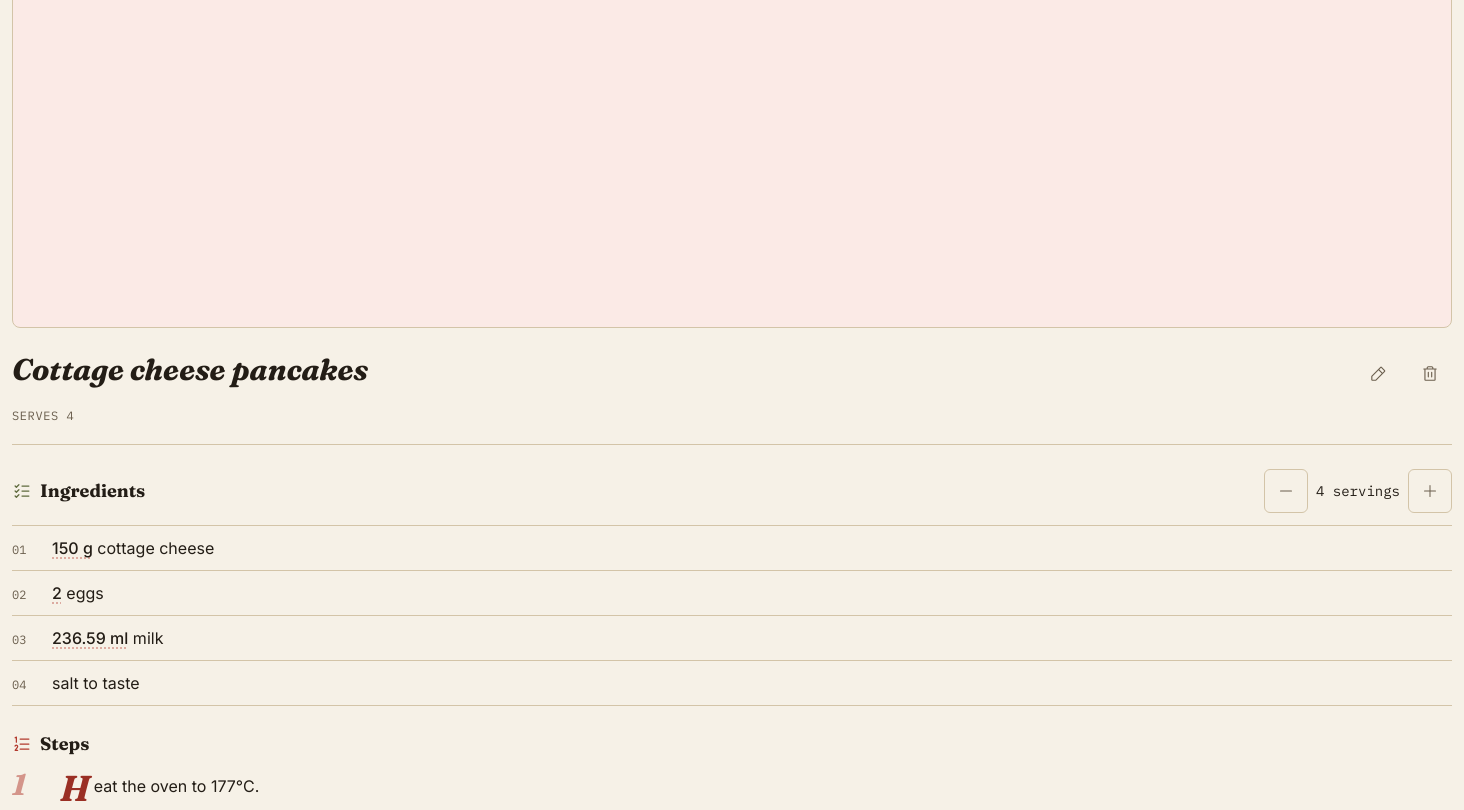
Test: RecipeDetailPage — scaling › rescales every amount with the servings stepper
(page scrolled)
Click the button named "More servings". click: {"x": 1430, "y": 491}
box: [1408,469,1452,513]
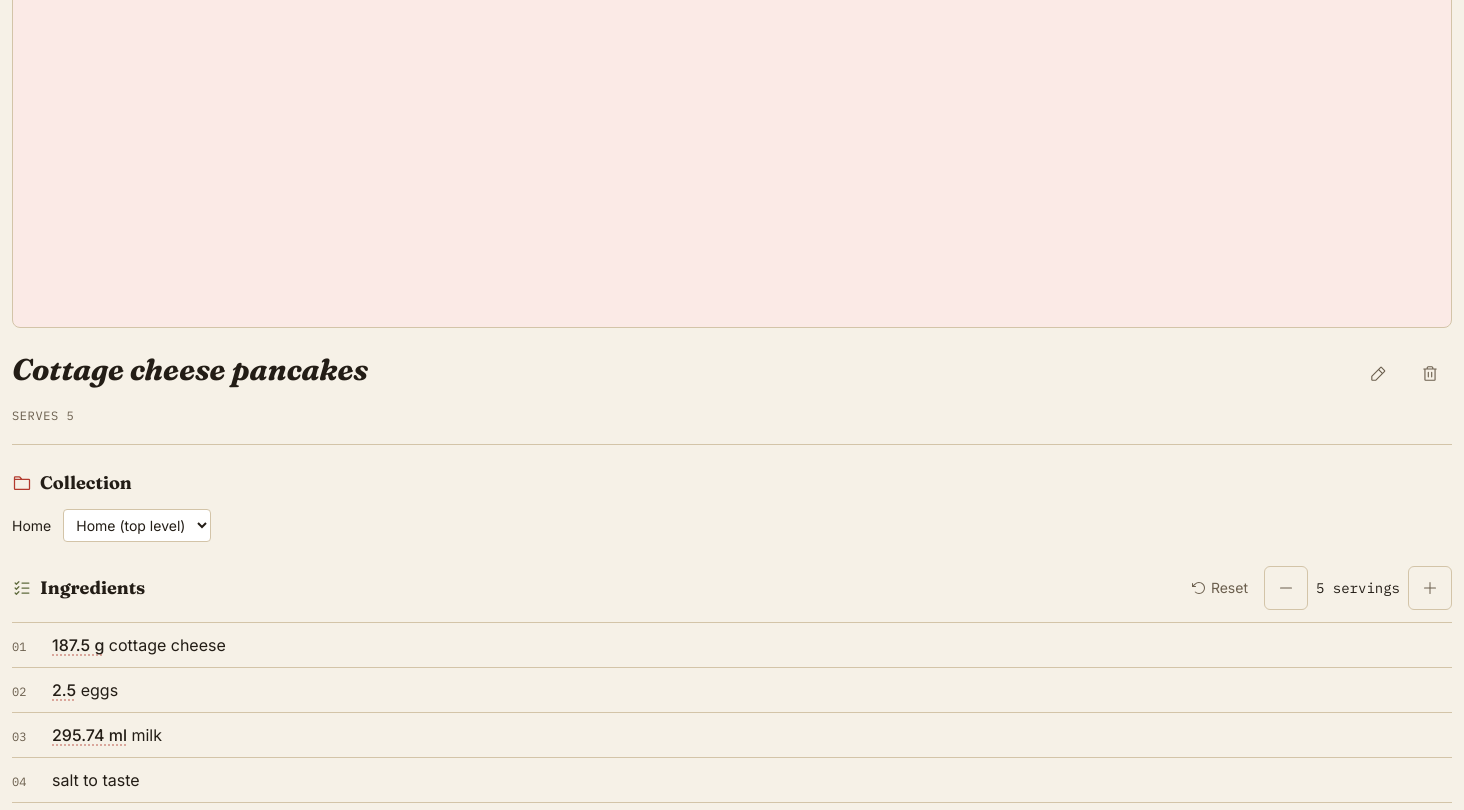
Click the button named "More servings". click: {"x": 1430, "y": 588}
box: [1408,566,1452,610]
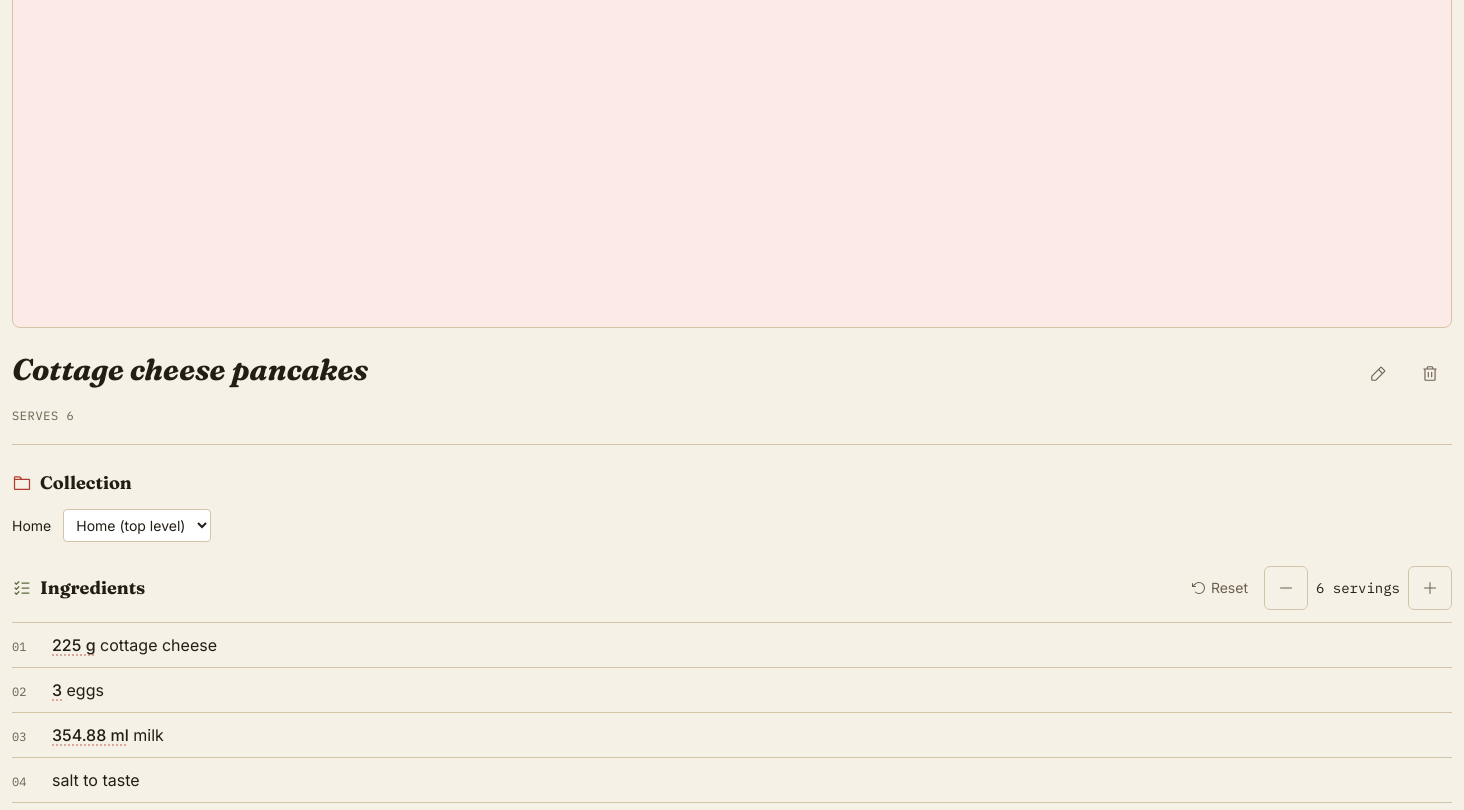
Expected: the text "6 servings" is shown, [1316,578,1400,598]
Expected: the text "Serves 6" is shown, [12,408,74,423]
Click the button "Reset". click: {"x": 1219, "y": 588}
box: [1183,566,1256,610]
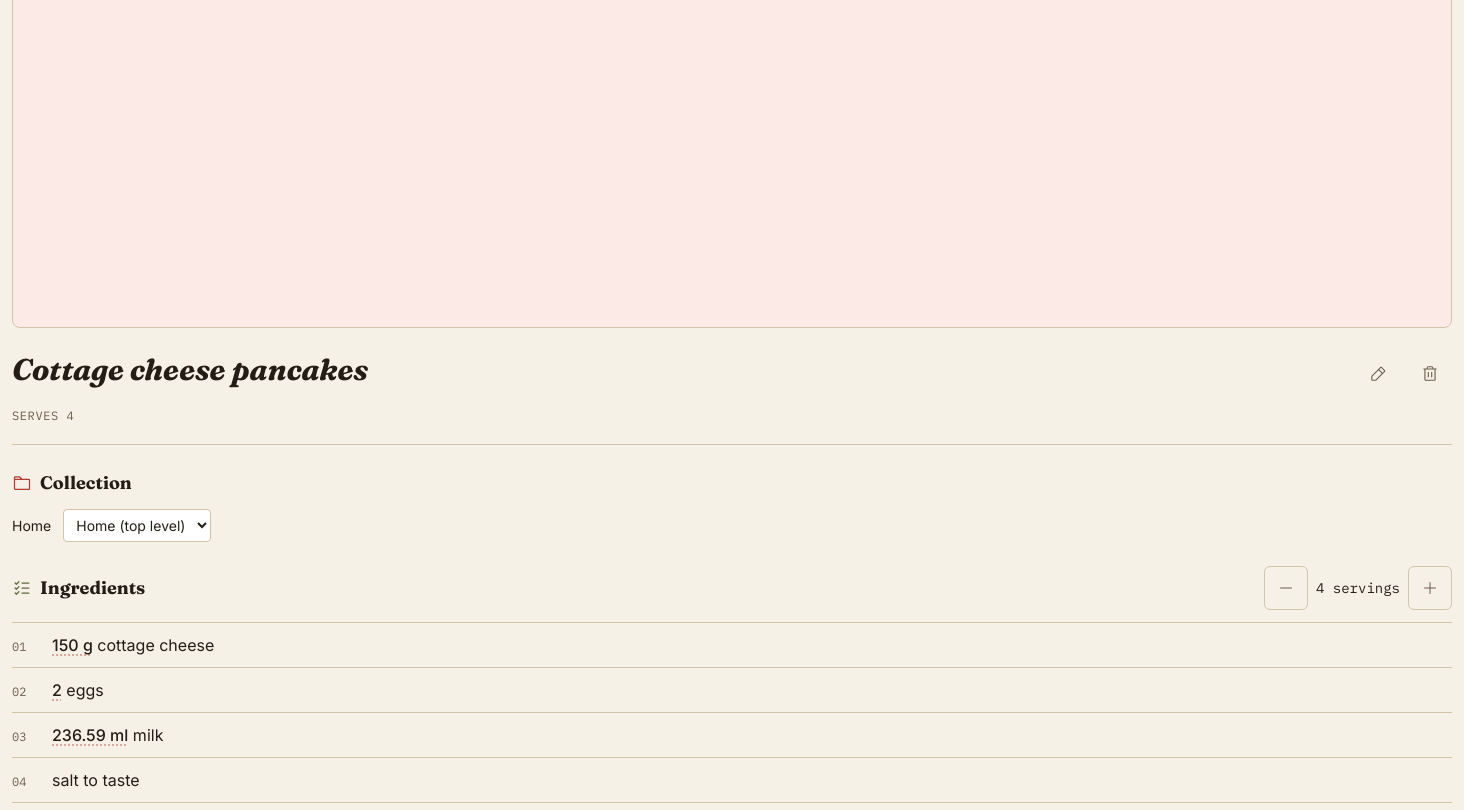
Expected: the text "4 servings" is shown, [1316,578,1400,598]
